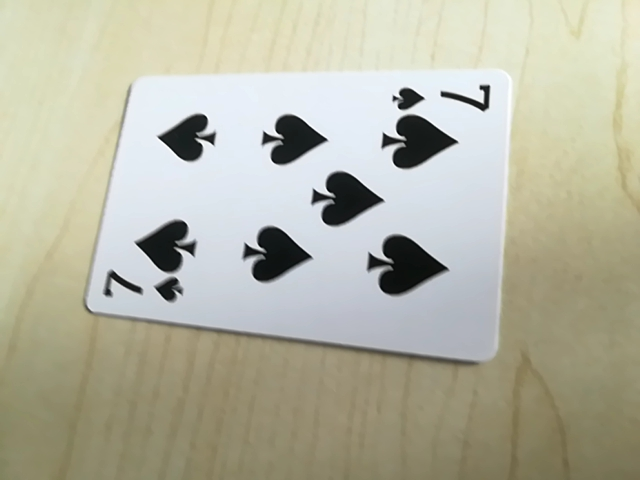ht 7: (387, 77, 497, 115), (101, 269, 191, 309)
